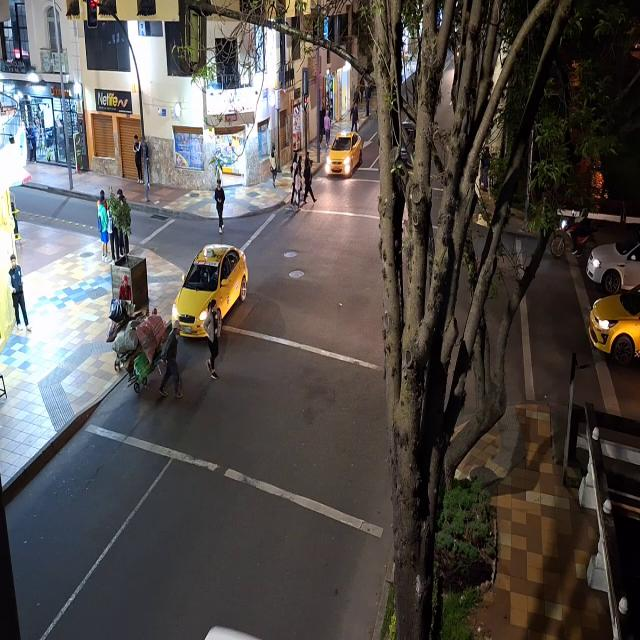MOTORCYCLE: (550, 213, 592, 256)
SED: (177, 248, 238, 336), (591, 288, 640, 359), (589, 234, 640, 290), (328, 134, 358, 176)
